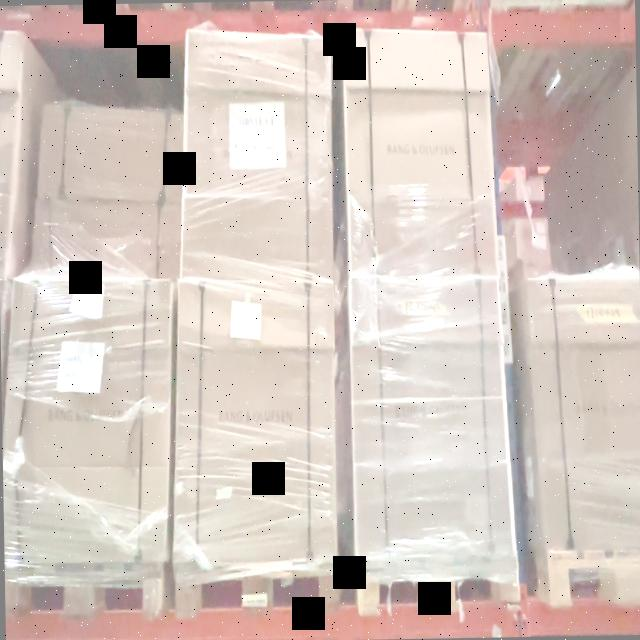box: (174, 283, 337, 564), (352, 276, 513, 558), (180, 31, 334, 281), (346, 29, 496, 280)
